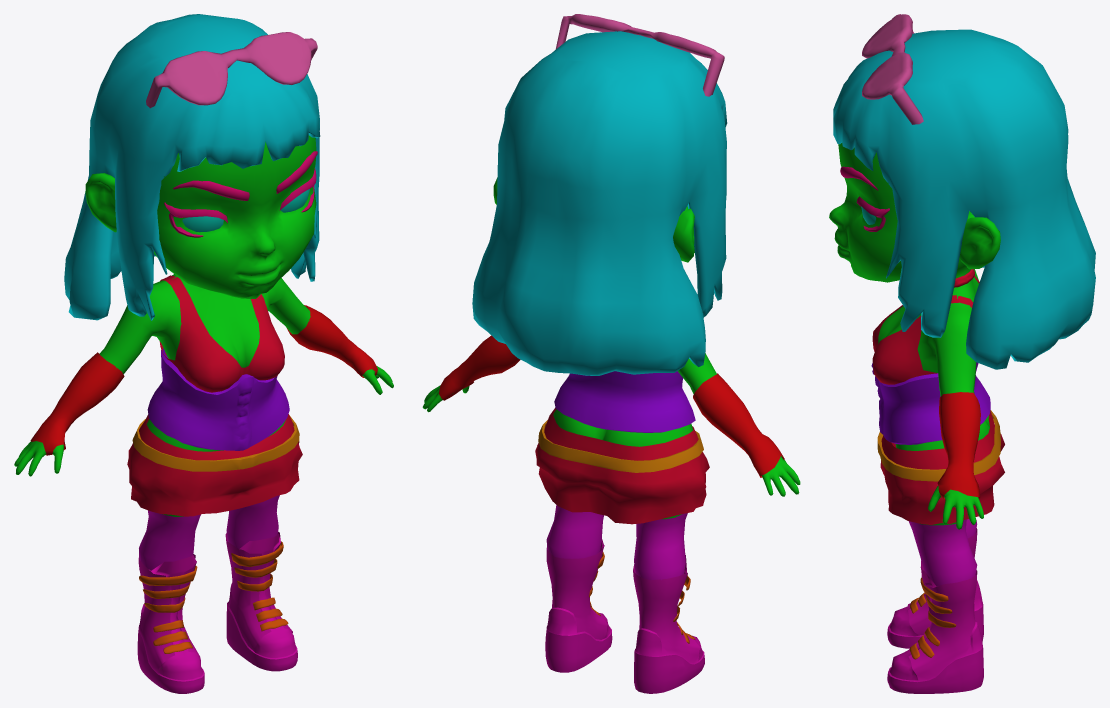
The model's file is VanaGame.fbx.
The picture shows the model from 3 angles, left to right: view 1: azimuth 30°, elevation 25°; view 2: azimuth 150°, elevation 25°; view 3: azimuth 270°, elevation 25°; orthographic projection.
Parts seen in each view (by area): view 1: Hair_low, Body_low, Boots_low, Skirt_low, Bust_low, SunGlasses_low, CropTop_low, Gloves_low, Socks_low, BootsLaces_low, Belt_low, EyeBrows_low (+2 smaller); view 2: Hair_low, Boots_low, Skirt_low, Bust_low, Gloves_low, Socks_low, Body_low, SunGlasses_low, Belt_low; view 3: Hair_low, Body_low, Boots_low, Skirt_low, Bust_low, Gloves_low, SunGlasses_low, Socks_low, CropTop_low, Belt_low, BootsLaces_low.
Boxes of the visible parts, x1=… form: Hair_low: x1=64, y1=14, x2=320, y2=320; Body_low: x1=14, y1=135, x2=393, y2=668; Boots_low: x1=137, y1=531, x2=297, y2=693; Skirt_low: x1=127, y1=414, x2=302, y2=516; Bust_low: x1=147, y1=348, x2=289, y2=450; SunGlasses_low: x1=146, y1=32, x2=317, y2=108; CropTop_low: x1=159, y1=275, x2=284, y2=392; Gloves_low: x1=30, y1=305, x2=377, y2=455; Socks_low: x1=139, y1=495, x2=279, y2=648; BootsLaces_low: x1=139, y1=541, x2=288, y2=653; Belt_low: x1=132, y1=415, x2=299, y2=471; EyeBrows_low: x1=173, y1=151, x2=317, y2=200; Hair_low: x1=472, y1=31, x2=727, y2=375; Boots_low: x1=545, y1=539, x2=704, y2=693; Skirt_low: x1=535, y1=408, x2=709, y2=524; Bust_low: x1=554, y1=371, x2=695, y2=432; Gloves_low: x1=439, y1=335, x2=784, y2=477; Socks_low: x1=546, y1=505, x2=687, y2=580; Body_low: x1=422, y1=177, x2=800, y2=519; SunGlasses_low: x1=555, y1=14, x2=724, y2=96; Belt_low: x1=538, y1=420, x2=703, y2=472; Hair_low: x1=833, y1=29, x2=1095, y2=369; Body_low: x1=829, y1=143, x2=1000, y2=674; Boots_low: x1=887, y1=528, x2=983, y2=693; Skirt_low: x1=880, y1=410, x2=1004, y2=524; Bust_low: x1=871, y1=362, x2=990, y2=444; Gloves_low: x1=937, y1=392, x2=980, y2=499; SunGlasses_low: x1=862, y1=14, x2=923, y2=124; Socks_low: x1=908, y1=519, x2=977, y2=586; CropTop_low: x1=872, y1=276, x2=979, y2=384; Belt_low: x1=877, y1=410, x2=1000, y2=481; BootsLaces_low: x1=909, y1=577, x2=956, y2=659.
Bounding box in the file's own units: 103 × 164 × 63.88.
